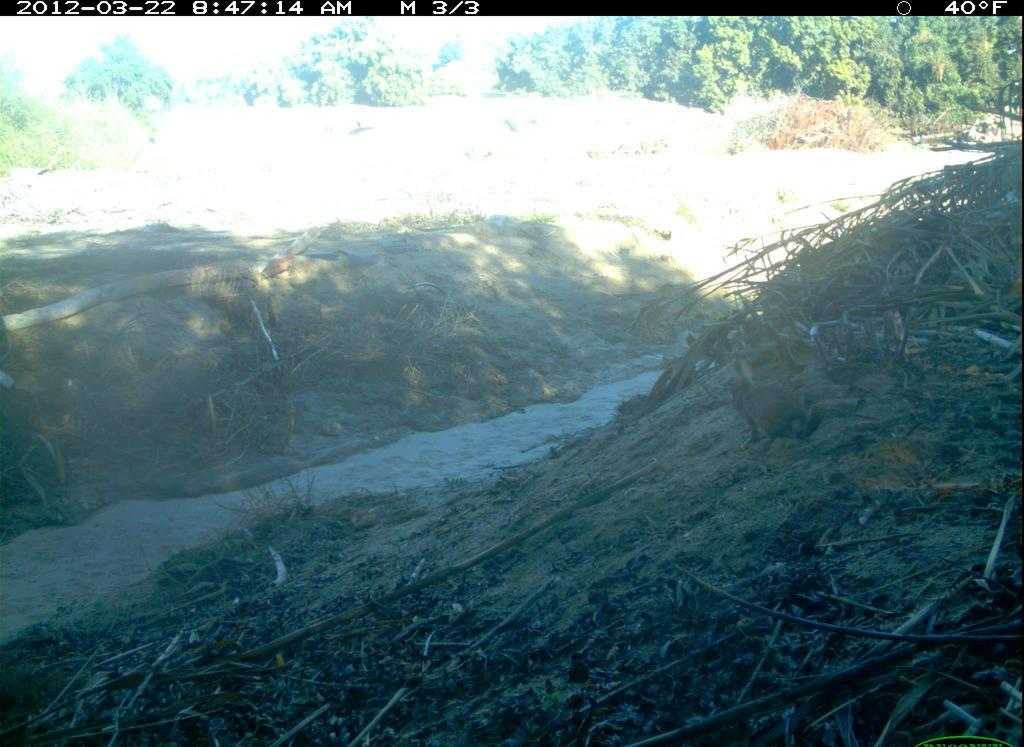rabbit: (715, 345, 831, 456)
